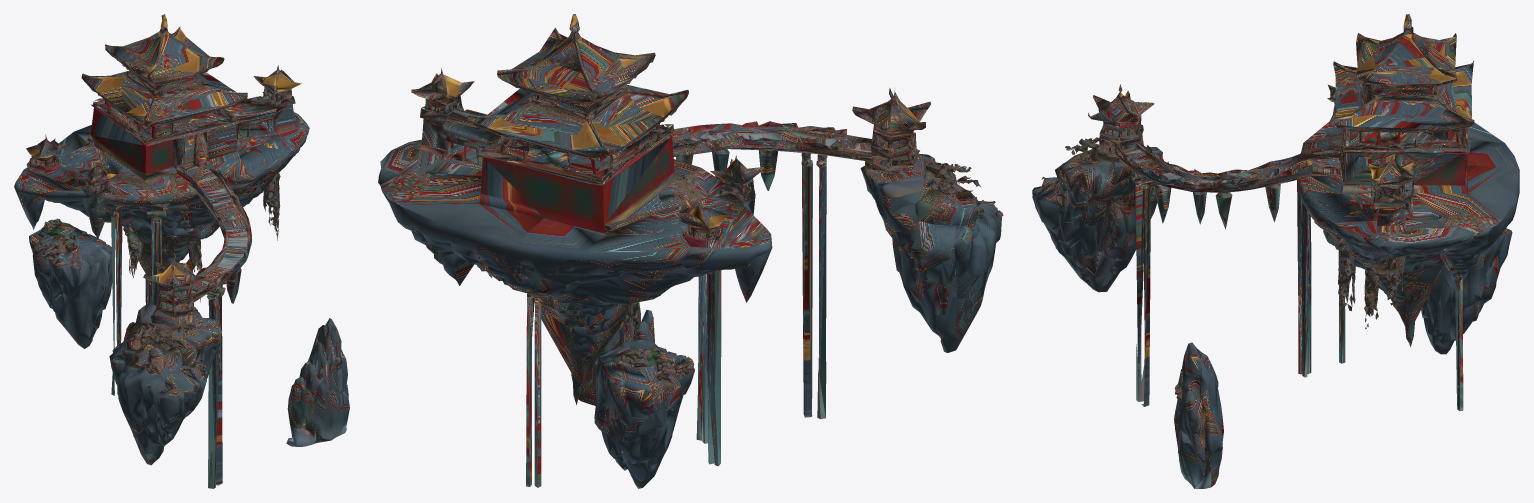
File: sky_palace.lod.glb
3 views of the same model, side by side, from view 1: azimuth 30°, elevation 25°; view 2: azimuth 150°, elevation 25°; view 3: azimuth 270°, elevation 25° (orthographic). The views are drawn at different scales.
Size of the model in its own units: 1.61 by 1.82 by 1.89.
Materials: 1 (1 with a texture image).
